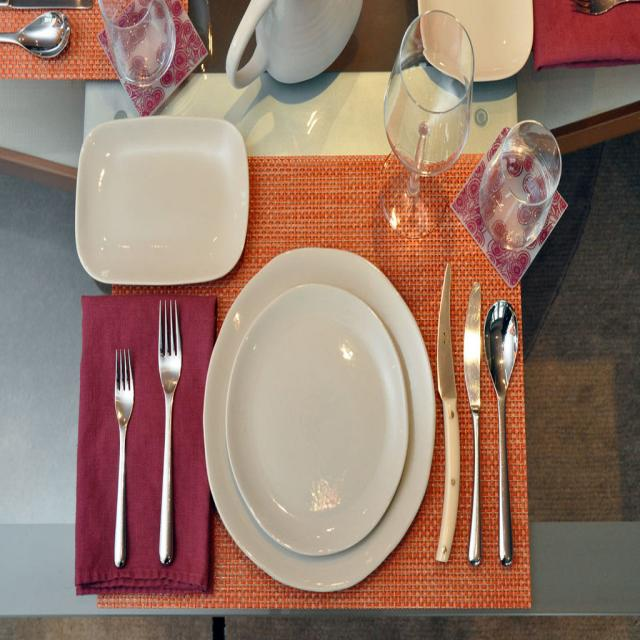non-organic waste: (206, 217, 438, 602), (77, 98, 246, 301)
